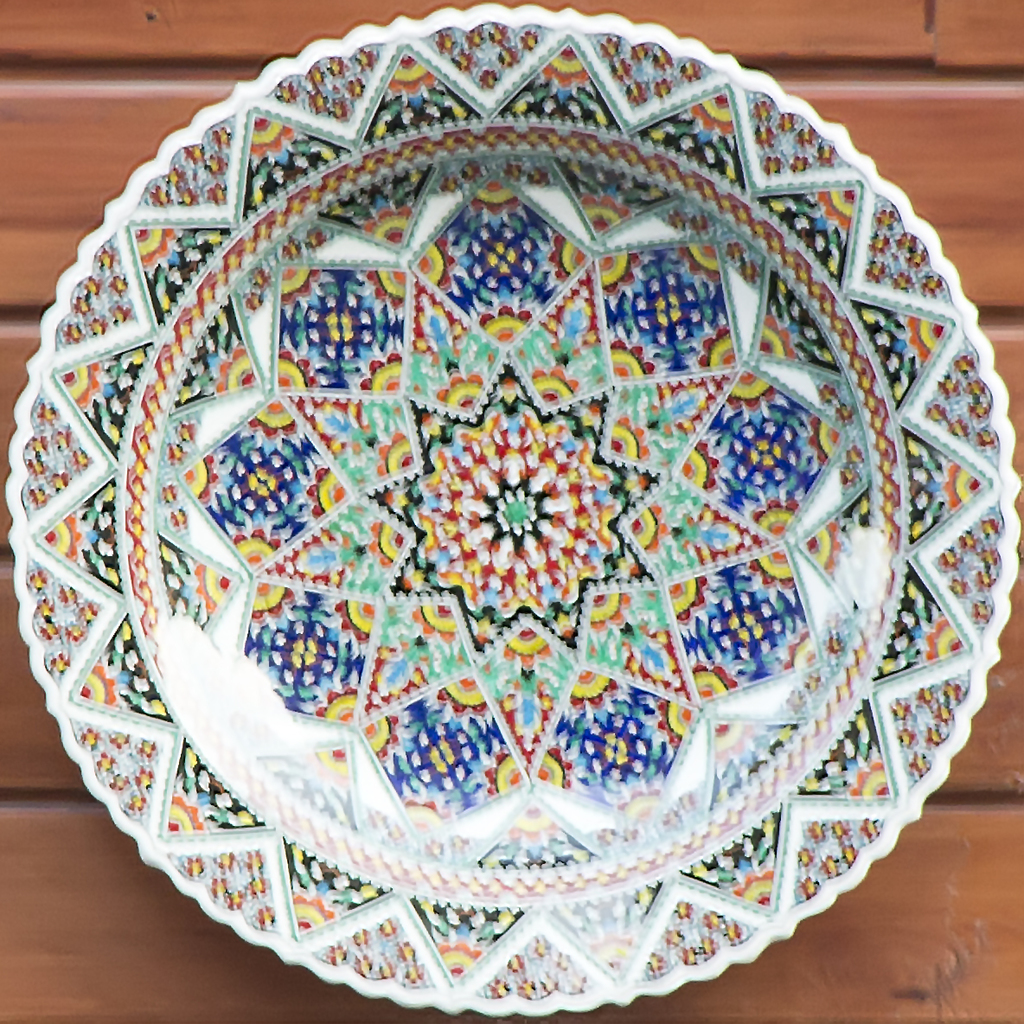plate: (0, 12, 1005, 958)
